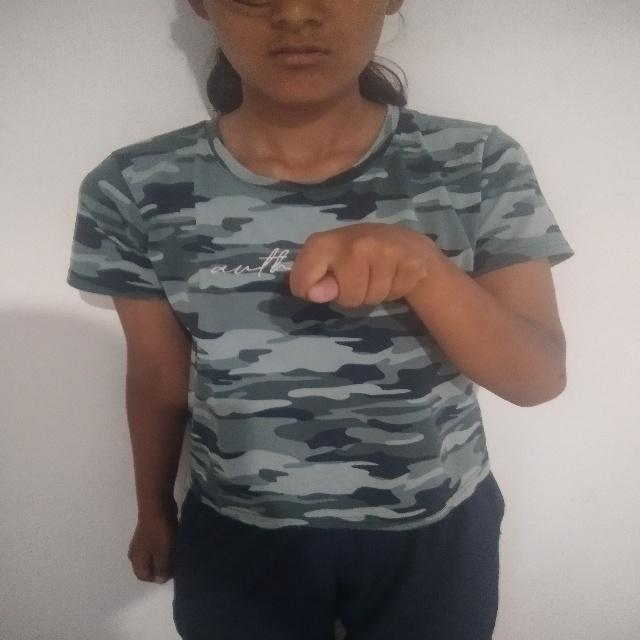Dulya: (282, 222, 456, 330)
